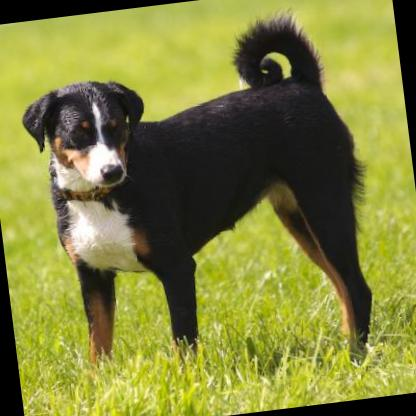Appenzeller: (13, 6, 388, 401)
